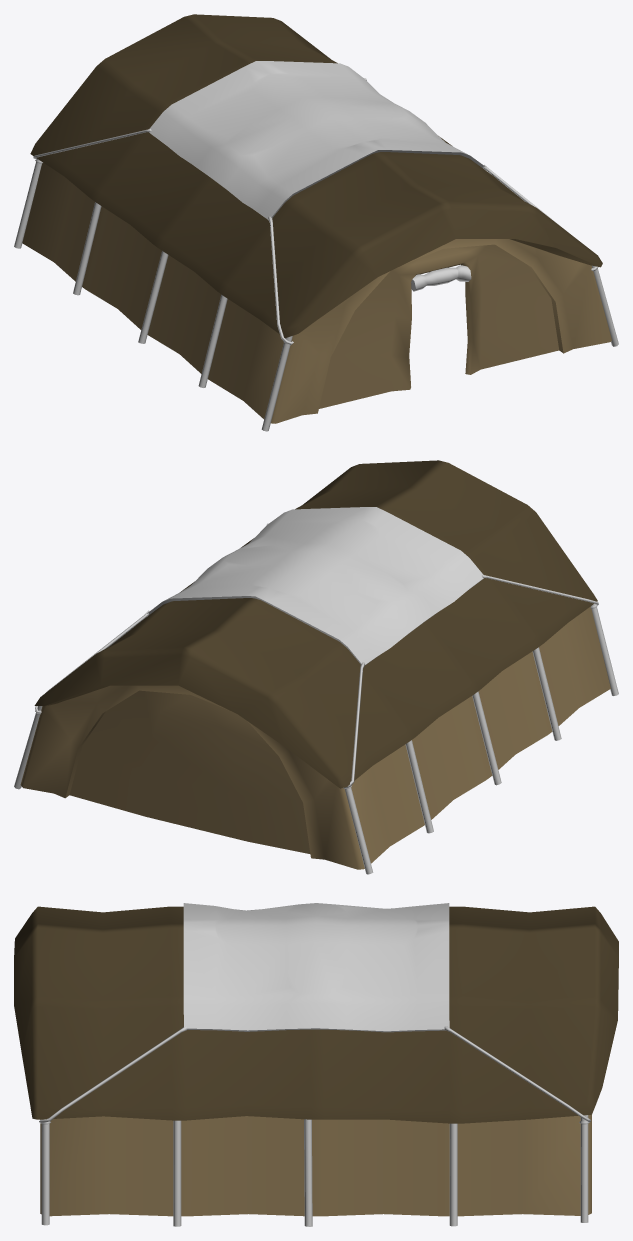
Rendered from tent_001.fbx.
3 renders of one model, top to bottom at view 1: azimuth 30°, elevation 25°; view 2: azimuth 150°, elevation 25°; view 3: azimuth 270°, elevation 25°, orthographic. The views are drawn at different scales.
Visible parts, largest first — view 1: tent_001; view 2: tent_001; view 3: tent_001.
Part boxes in pixels (<box>): tent_001: <box>14,14,618,431</box>; tent_001: <box>14,460,618,874</box>; tent_001: <box>14,903,618,1226</box>.
Bounding box in the file's own units: 698 × 925 × 354.
